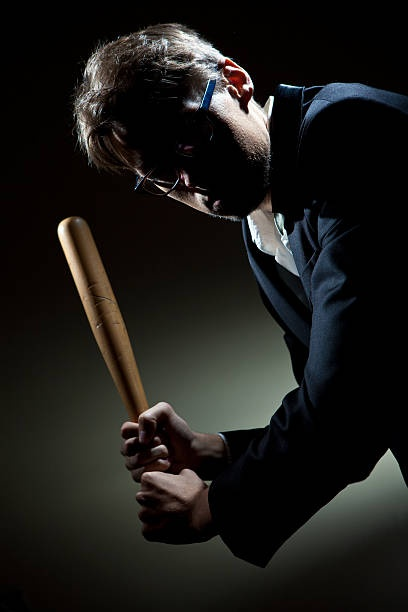bita: (55, 212, 163, 496)
